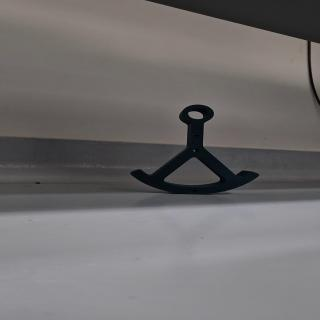haptic: (129, 104, 260, 195)
